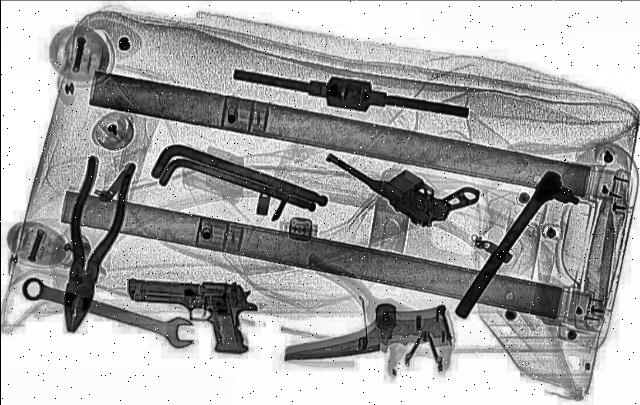Gun: (318, 123, 488, 228), (112, 275, 262, 353)
Pliers: (42, 155, 134, 333)
Wrench: (6, 272, 206, 350)
